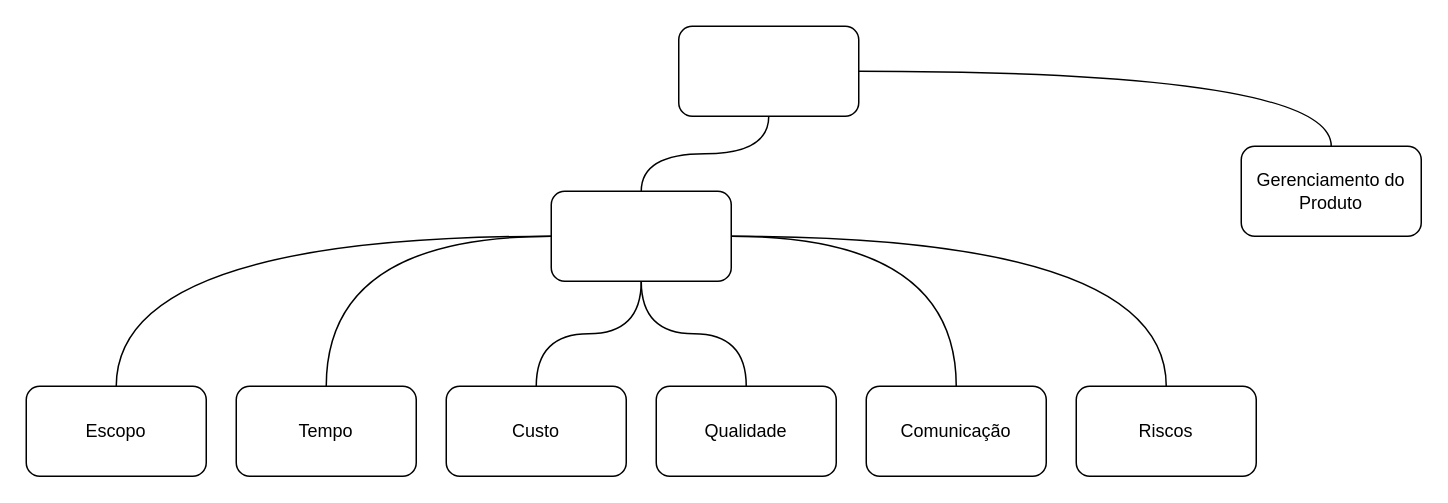
Image size: 1448x503. Some labels were removed from this diagram. Each missing label, with the centre of its shape:
"Gerenciamento do Projeto" belongs at point 640,235.
"Projeto Terminal Pesqueiro Público de Mar Alegre" belongs at point 768,70.
